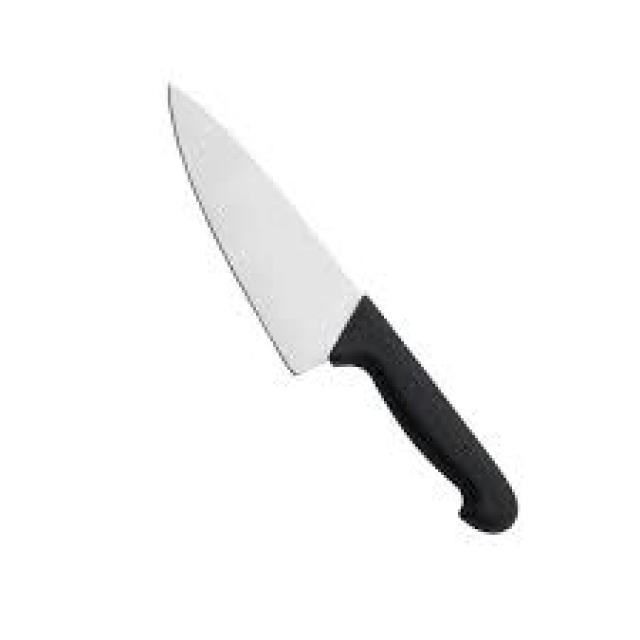Knife: (162, 80, 518, 534)
